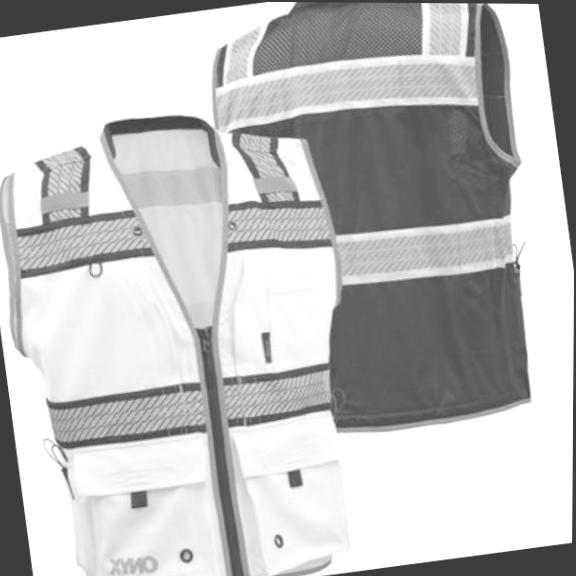safety_vest: (0, 86, 390, 576), (195, 1, 562, 450)
